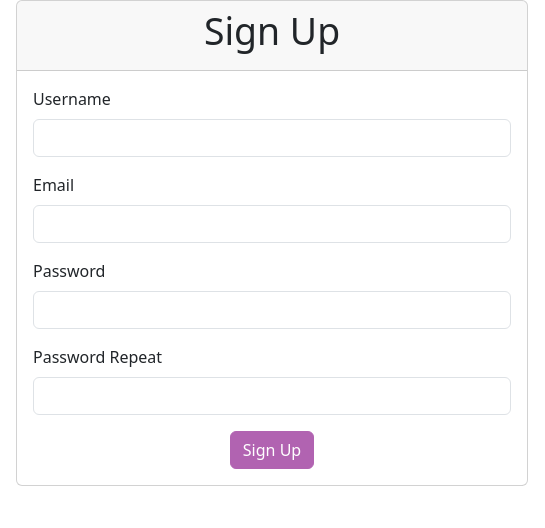
Test case: Sign Up › when user sets same value for password inputs › enables sign-up button
Type "user1" into the field labelled "Username" at x=272, y=138, box left=33, top=119, right=511, bottom=157
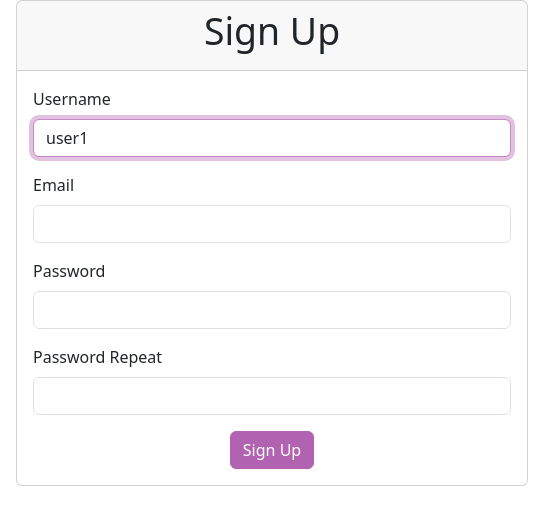
Type "user123@mail.com" into the field labelled "Email" at x=272, y=224, box left=33, top=205, right=511, bottom=243
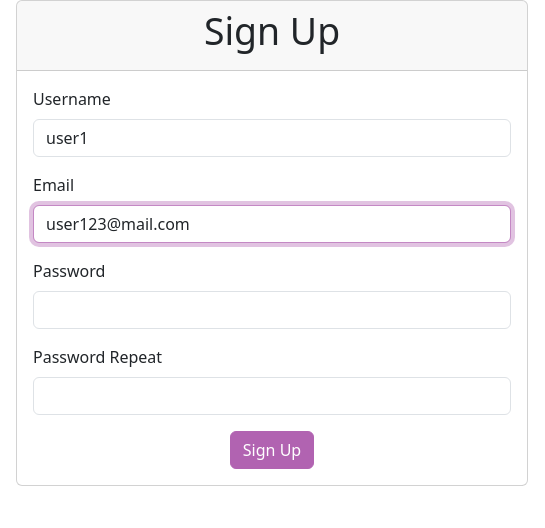
Type "Password1" into the password field labelled "Password" at x=272, y=310, box left=33, top=291, right=511, bottom=329
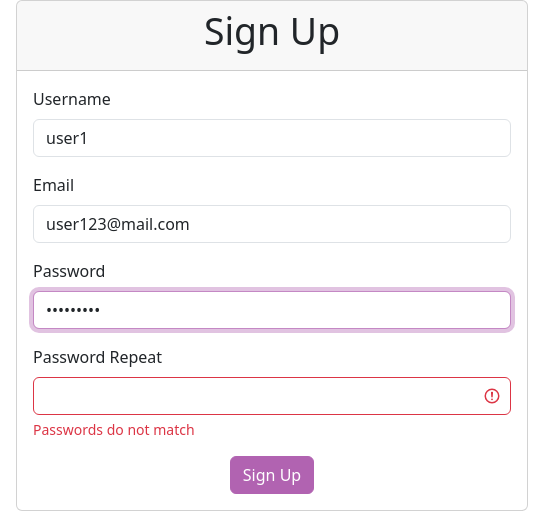
Type "Password1" into the password field labelled "Password Repeat" at x=272, y=396, box left=33, top=377, right=511, bottom=415
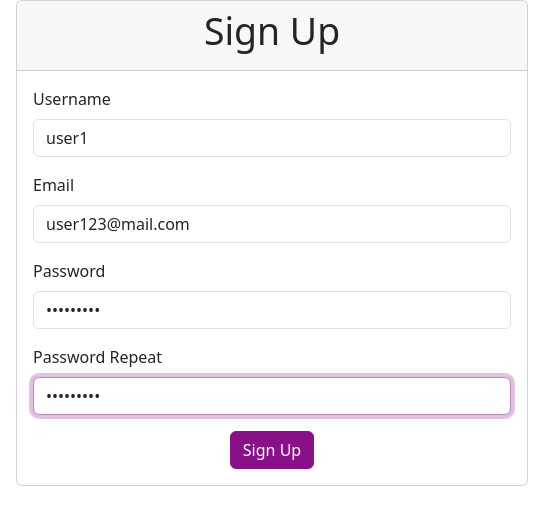
Now the button "Sign Up" is enabled, box left=230, top=431, right=314, bottom=469
